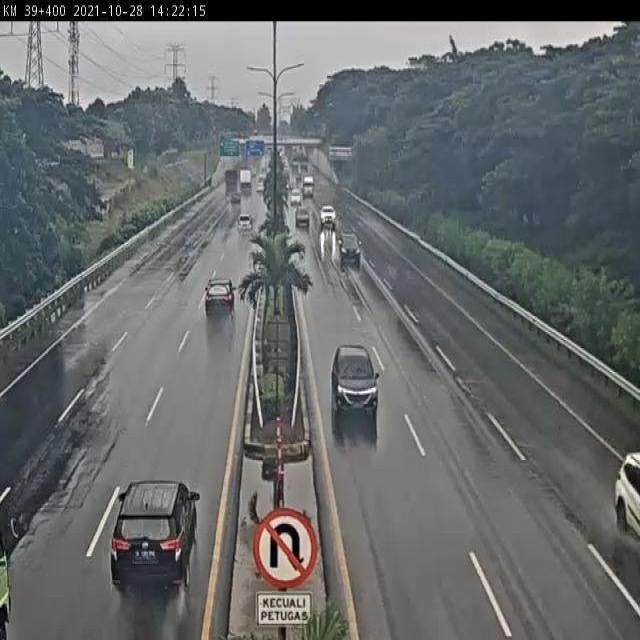car: (107, 480, 202, 593), (330, 345, 380, 420), (201, 274, 238, 318), (337, 232, 365, 267), (234, 214, 255, 238)
